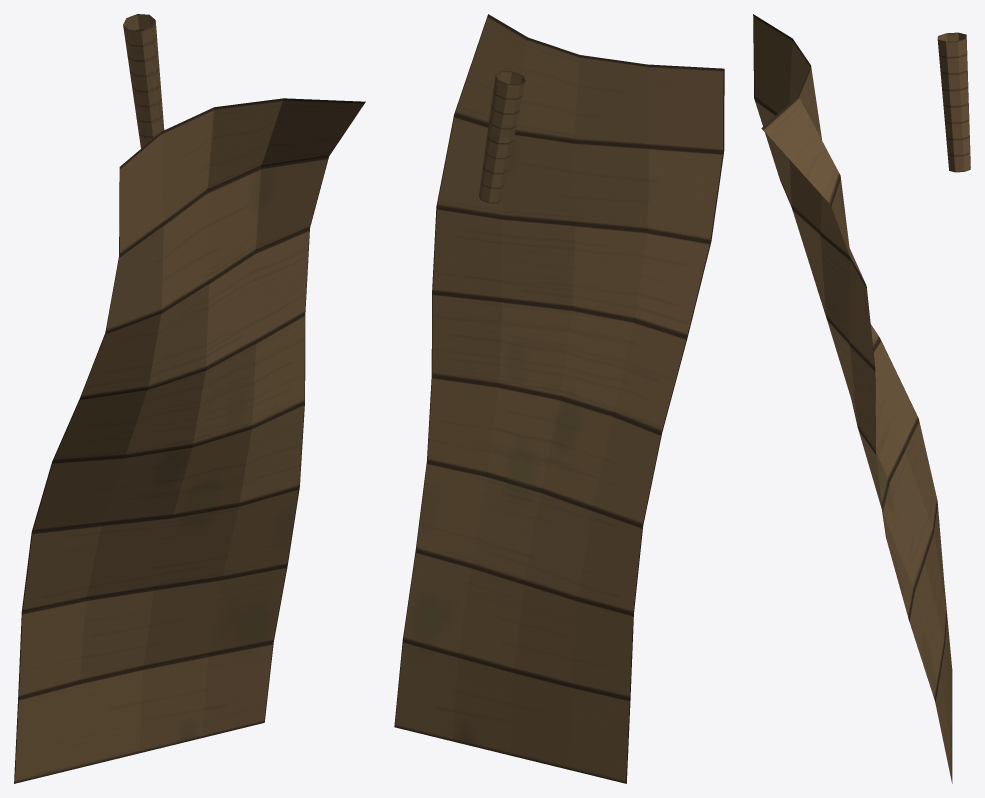
The model's file is bui-chuoi-tau-chuoi-kho.glb.
The picture shows the model from 3 angles, left to right: view 1: azimuth 30°, elevation 25°; view 2: azimuth 150°, elevation 25°; view 3: azimuth 270°, elevation 25°; orthographic projection. The views are drawn at different scales.
Parts seen in each view (by area): view 1: bui-chuoi-tau-chuoi-kho; view 2: bui-chuoi-tau-chuoi-kho; view 3: bui-chuoi-tau-chuoi-kho.
Part boxes in pixels (left/top/right/bottom): bui-chuoi-tau-chuoi-kho: left=14, top=14, right=365, bottom=783; bui-chuoi-tau-chuoi-kho: left=394, top=14, right=724, bottom=783; bui-chuoi-tau-chuoi-kho: left=753, top=14, right=970, bottom=783.
Size of the model in its own units: 0.7 by 1.96 by 0.5583.
Materials: 1 (1 with a texture image).
